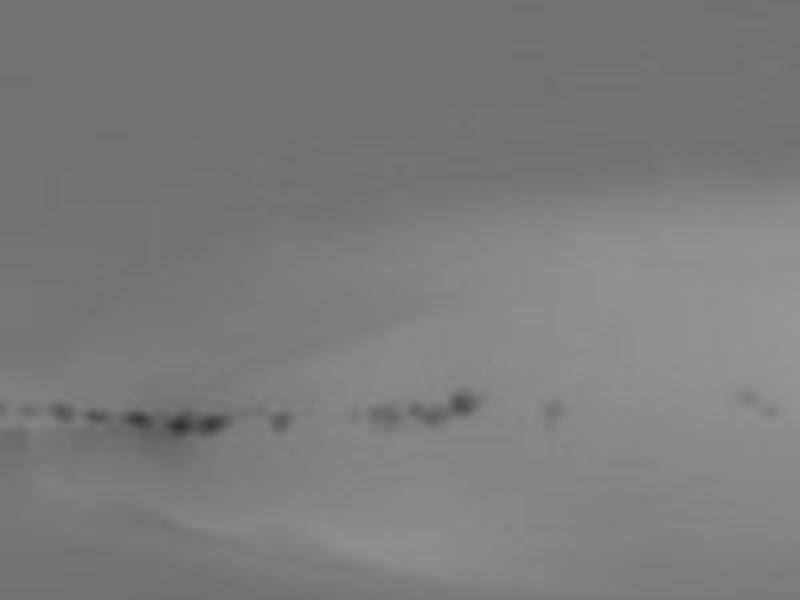defect: (366, 402, 401, 431), (193, 413, 228, 434), (51, 397, 75, 426), (165, 412, 191, 437), (450, 390, 478, 413), (122, 411, 153, 428), (271, 409, 291, 434), (544, 400, 565, 421), (85, 405, 108, 423), (422, 408, 445, 426), (735, 386, 754, 406), (405, 395, 423, 414), (17, 402, 38, 417), (759, 403, 780, 418)
